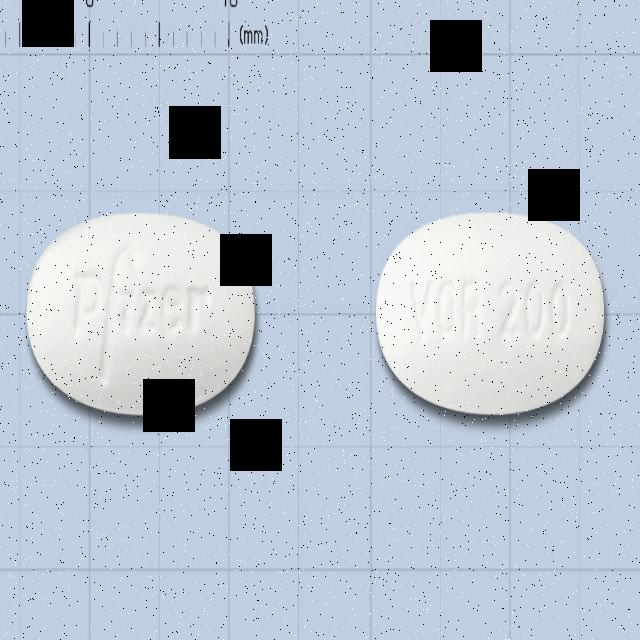Vfend Tab: (376, 212, 606, 415), (26, 213, 255, 416)
